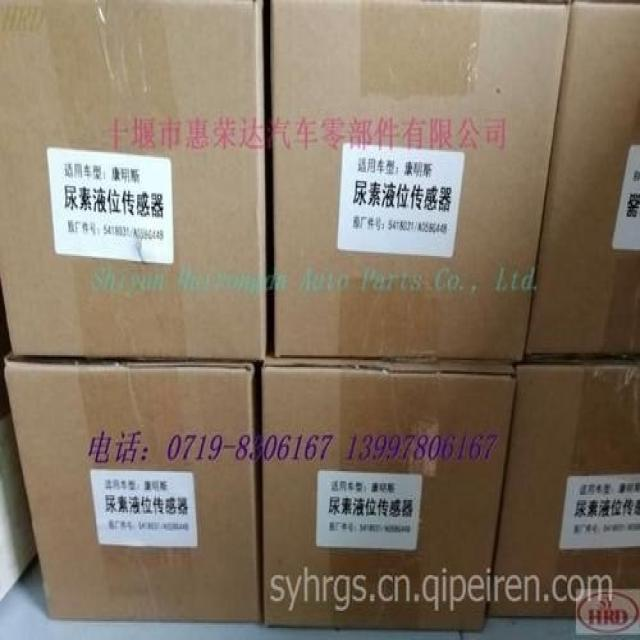box: (266, 1, 570, 362), (1, 1, 266, 363), (263, 355, 515, 633), (5, 349, 260, 622), (529, 3, 639, 360), (489, 362, 639, 617)
